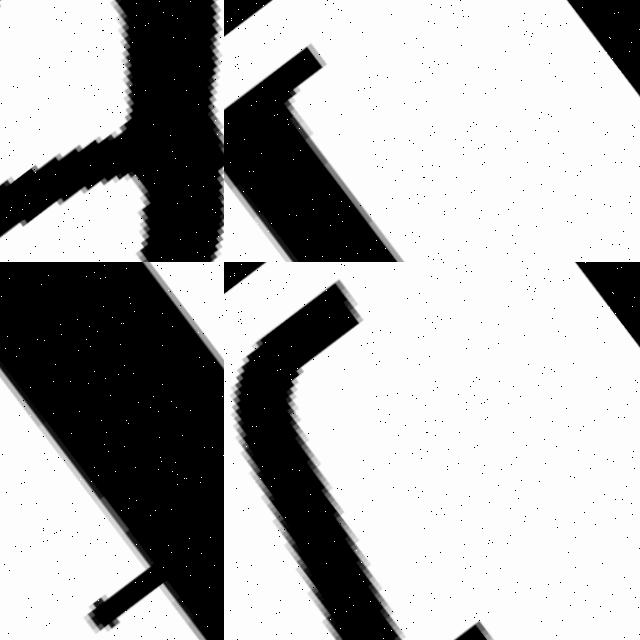E: (0, 0, 224, 262)
J: (224, 265, 640, 640)
L: (224, 24, 640, 262)
T: (0, 262, 224, 640)
